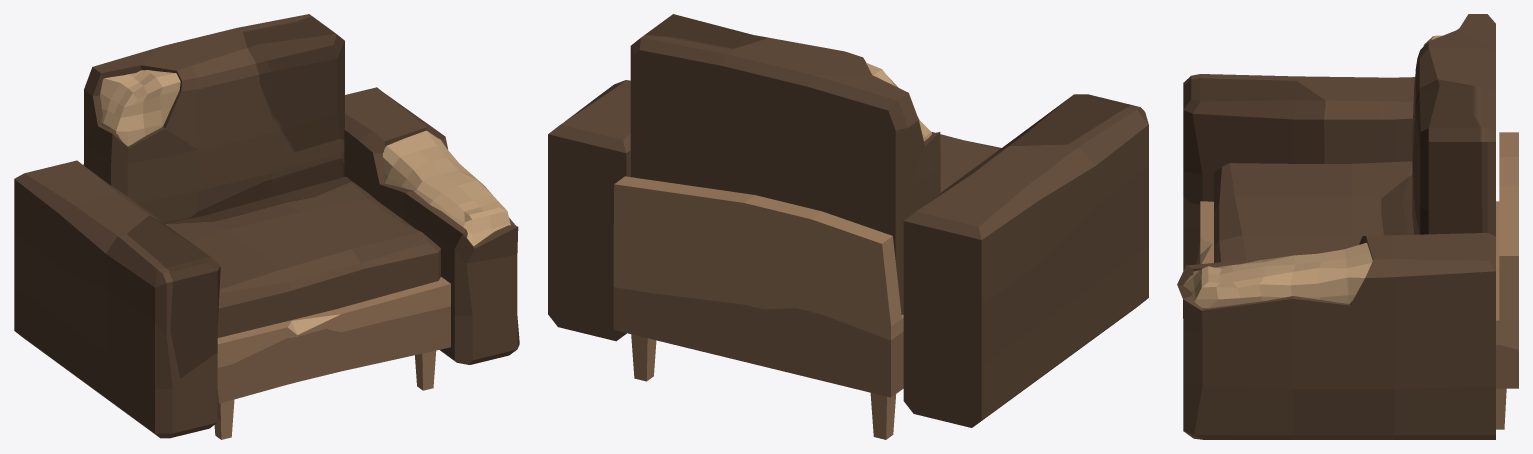
The model's file is SM_Sofa_B.fbx.
The picture shows the model from 3 angles, left to right: view 1: azimuth 30°, elevation 25°; view 2: azimuth 150°, elevation 25°; view 3: azimuth 270°, elevation 25°; orthographic projection. The views are drawn at different scales.
Parts seen in each view (by area): view 1: SM_Sofa_B; view 2: SM_Sofa_B; view 3: SM_Sofa_B.
Boxes of the visible parts, x1=… form: SM_Sofa_B: x1=14, y1=14, x2=519, y2=439; SM_Sofa_B: x1=548, y1=14, x2=1148, y2=439; SM_Sofa_B: x1=1177, y1=14, x2=1518, y2=439.
Size of the model in its own units: 172 by 126 by 127.
